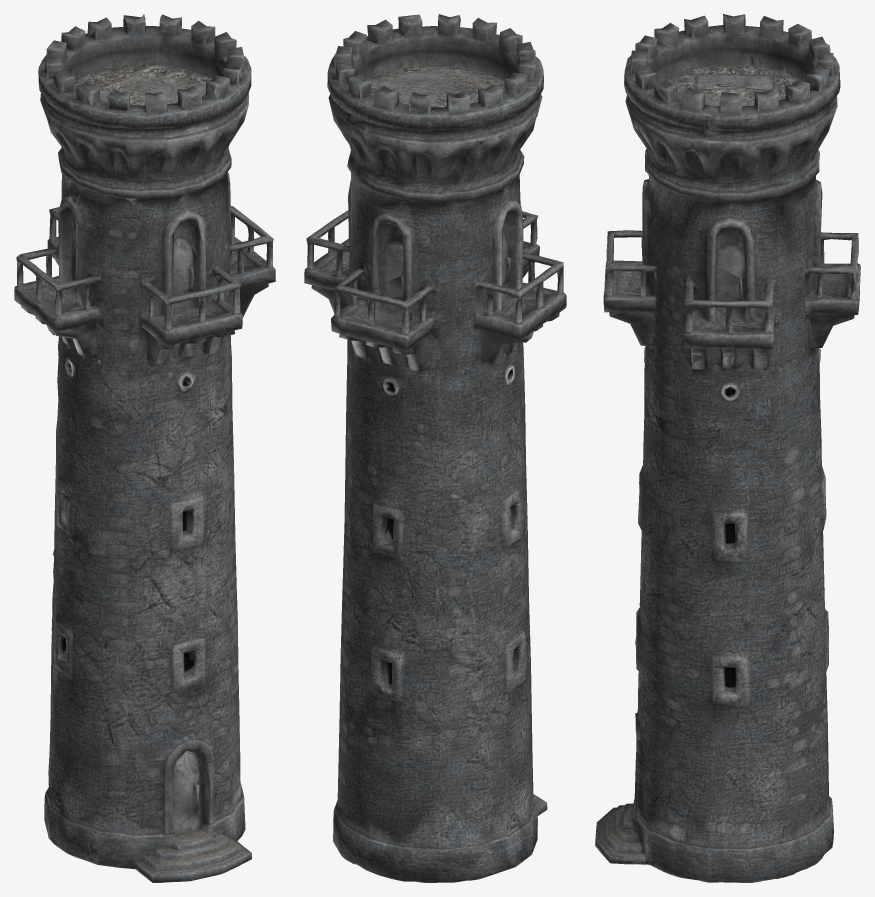
File: desert-tower.glb
3 views of the same model, side by side, from view 1: azimuth 30°, elevation 25°; view 2: azimuth 150°, elevation 25°; view 3: azimuth 270°, elevation 25° (orthographic).
Parts seen in each view (by area): view 1: Medieval_tower_low; view 2: Medieval_tower_low; view 3: Medieval_tower_low.
Part boxes in pixels (x1,y1,x2,y2): Medieval_tower_low: (14,14,275,882); Medieval_tower_low: (304,14,566,882); Medieval_tower_low: (595,14,860,882).
Size of the model in its own units: 7.15 by 24.14 by 7.4.
Materials: 1 (1 with a texture image).
